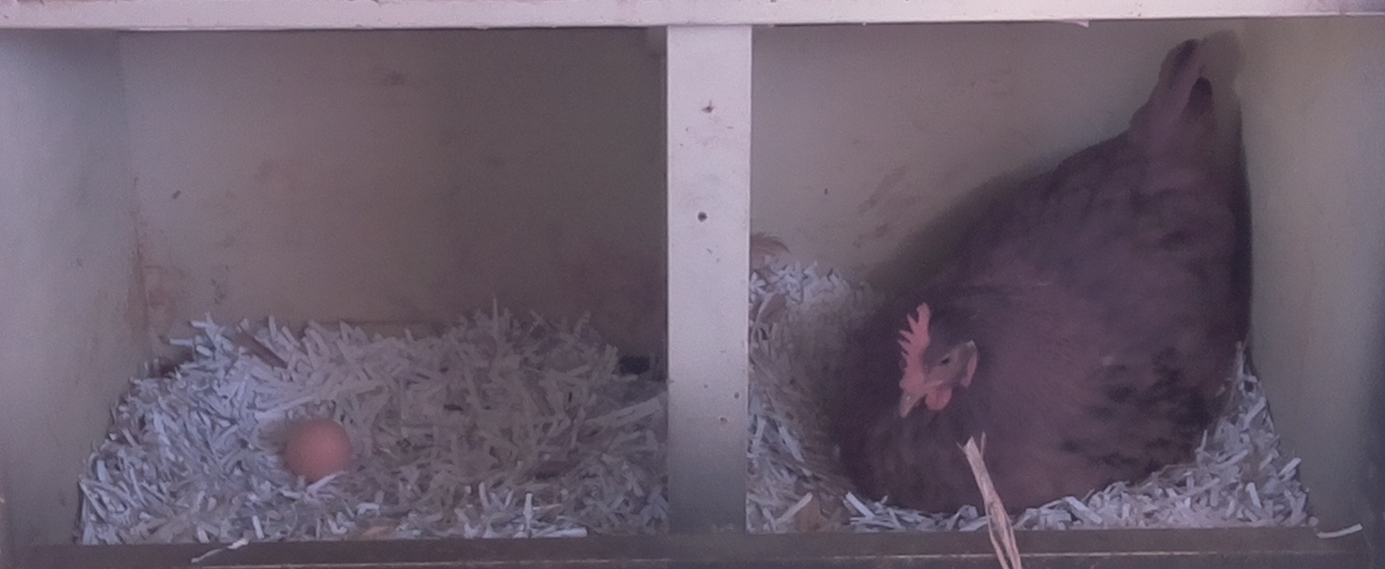Chicken: (847, 41, 1258, 508)
Egg: (280, 418, 356, 489)
